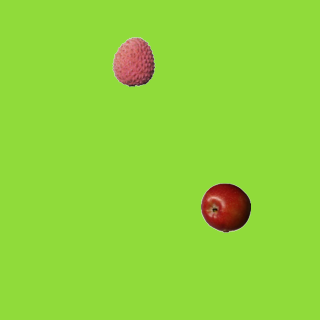Apple Braeburn: (200, 182, 250, 232)
Lychee: (108, 36, 158, 86)
